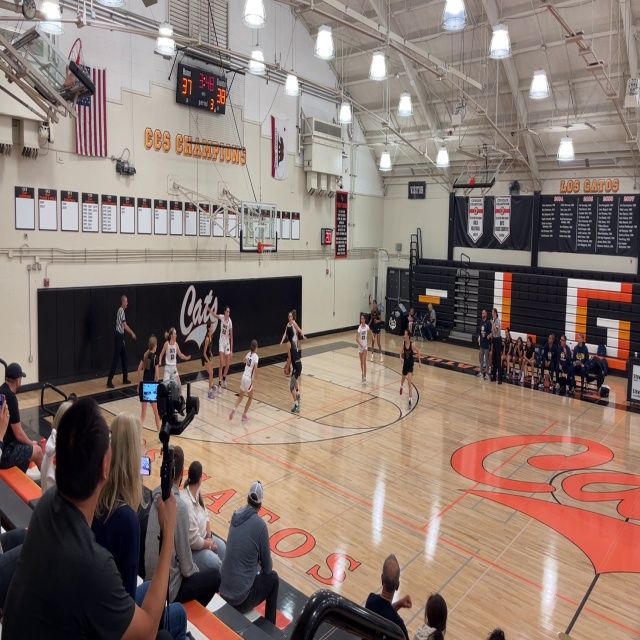Basketball: (284, 363, 292, 376)
